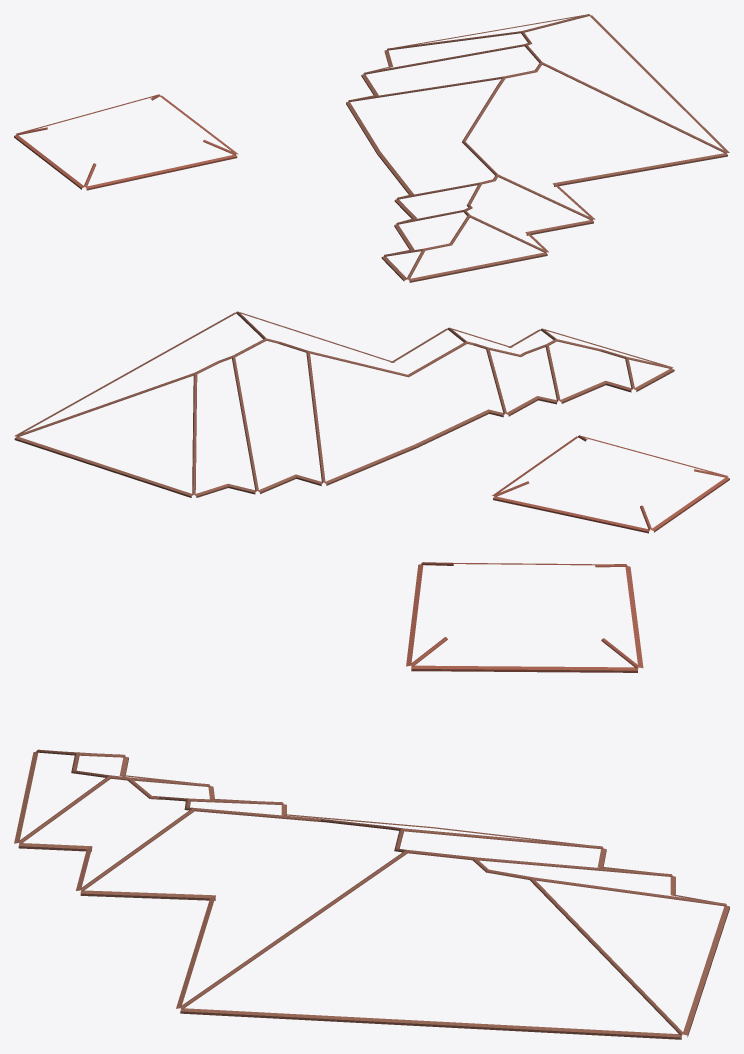
3 renders of one model, top to bottom at view 1: azimuth 30°, elevation 25°; view 2: azimuth 150°, elevation 25°; view 3: azimuth 270°, elevation 25°, orthographic. The views are drawn at different scales.
Visible parts, largest first — view 1: detail; view 2: detail; view 3: detail.
Part boxes in pixels (<box>): detail: <box>14,14,729,282</box>; detail: <box>14,311,729,533</box>; detail: <box>14,562,729,1039</box>.
Bounding box in the file's own units: 59.68 × 5.94 × 43.15.
